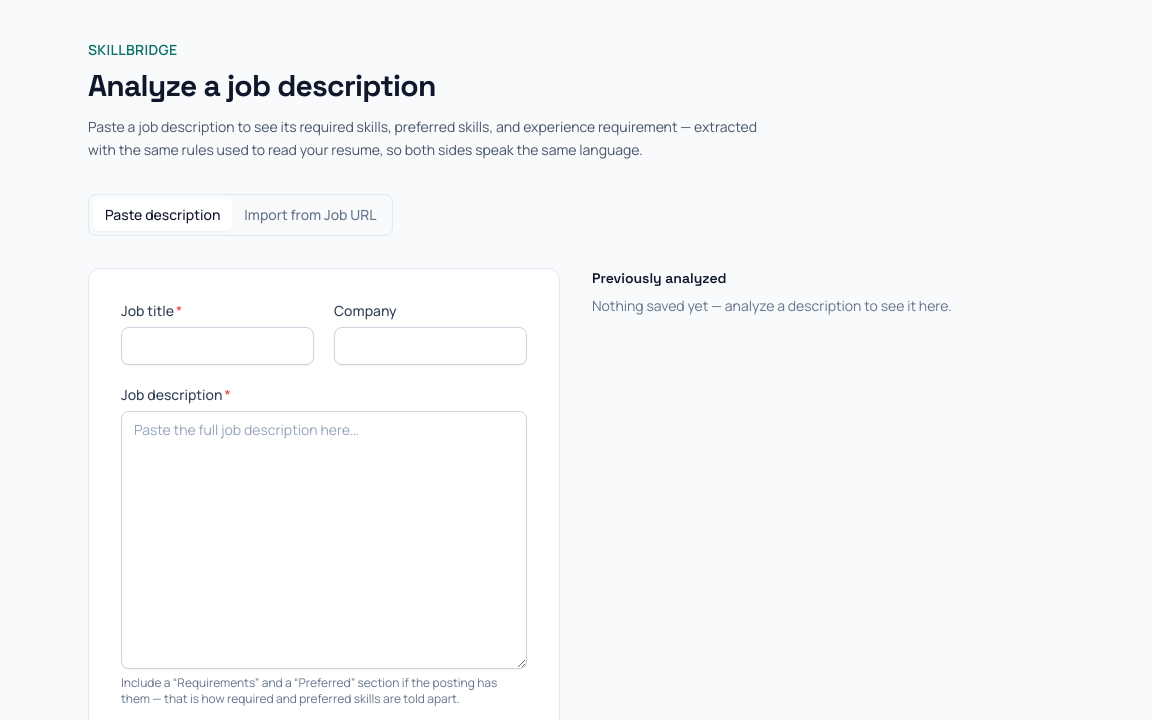
AnalyzeJobPage — Import from Job URL › shows a clear error when the URL is blocked as unsafe
Step 1. Click the button "Import from Job URL" → coordinates (310, 214), box [232,198,388,230]
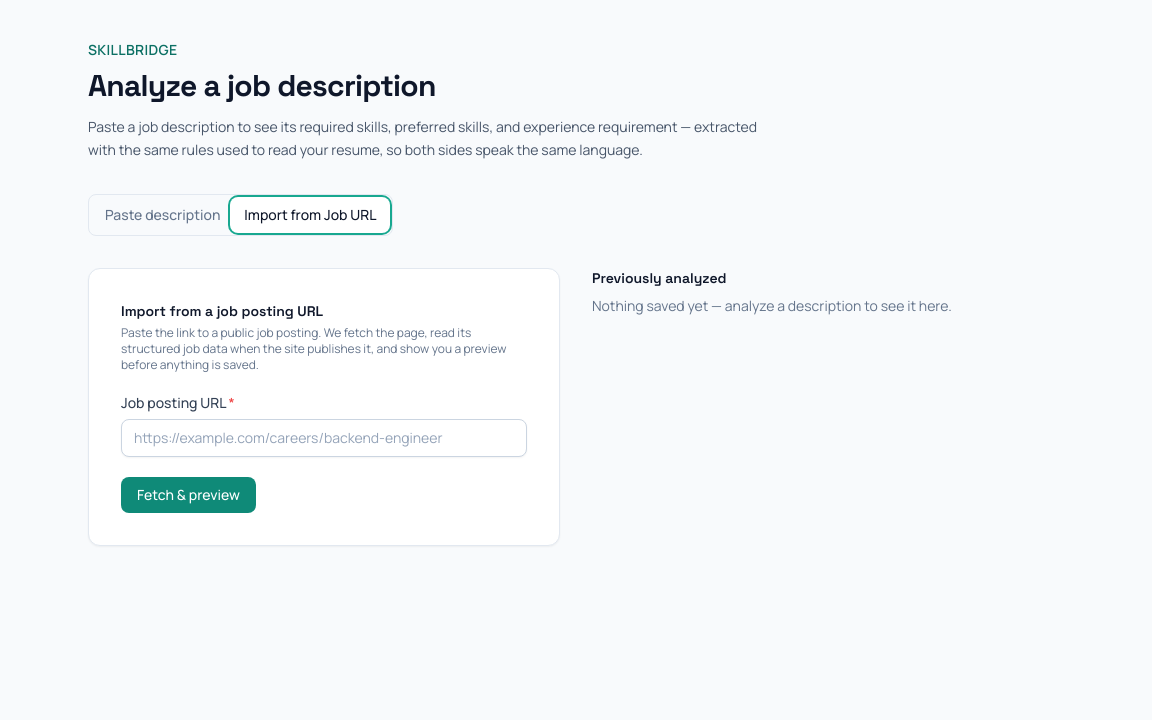
Step 2. Type "http://169.254.169.254/" into the field labelled "Job posting URL" → coordinates (324, 438), box [121,418,527,456]
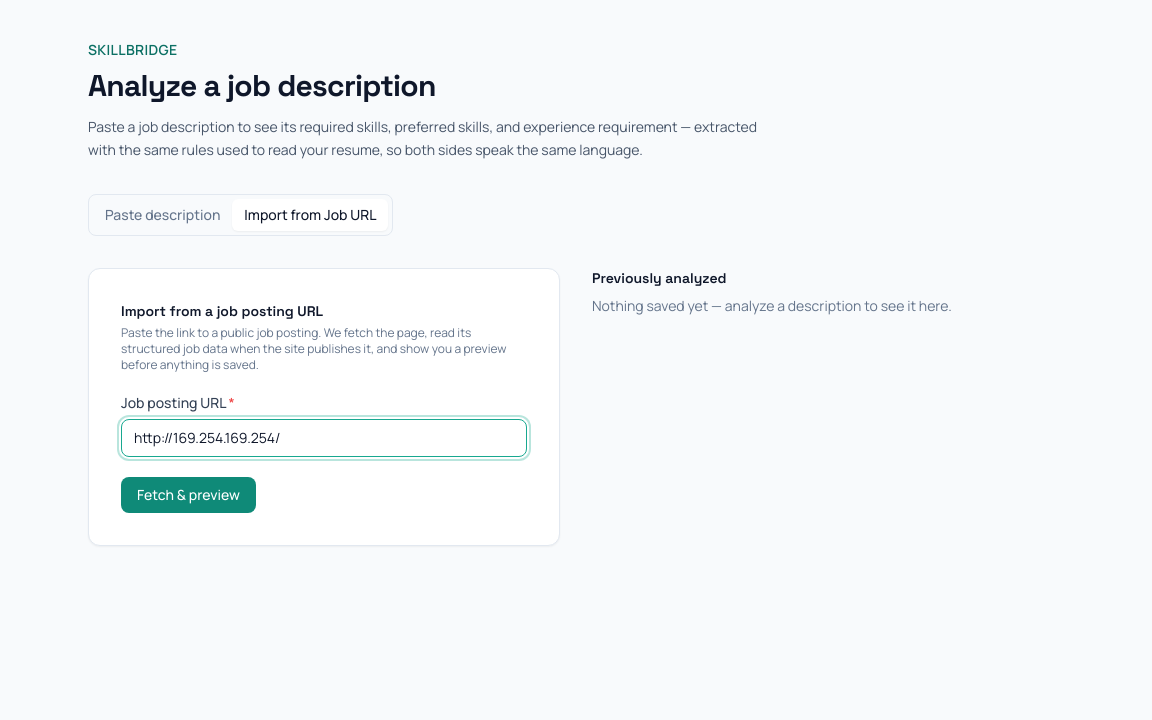
Step 3. Click the button "Fetch & preview" → coordinates (188, 494), box [121,476,256,512]
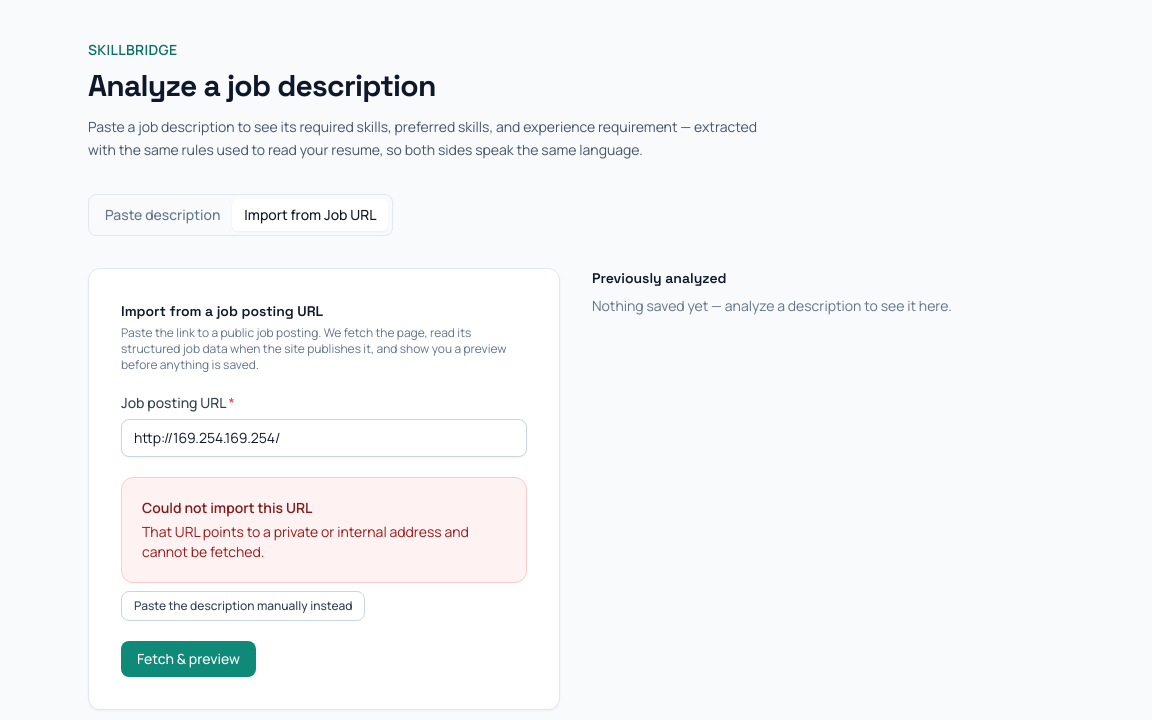
Expected: the text "private or internal address" is shown, [142,522,469,560]
